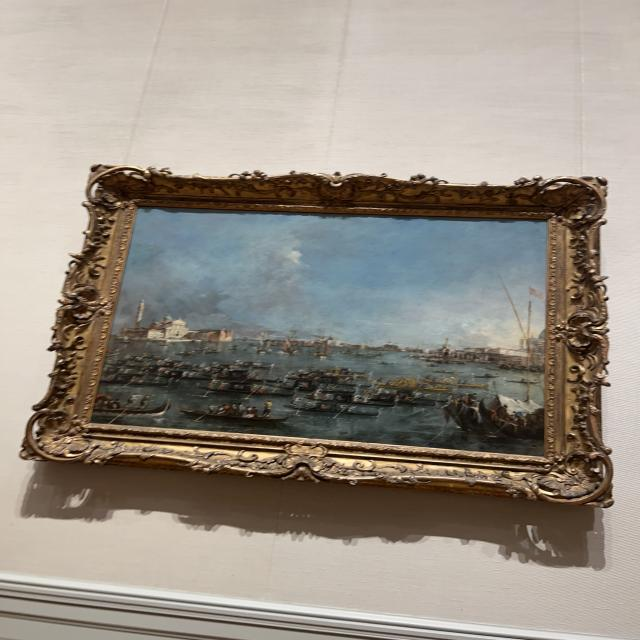ships: (92, 207, 548, 455)
